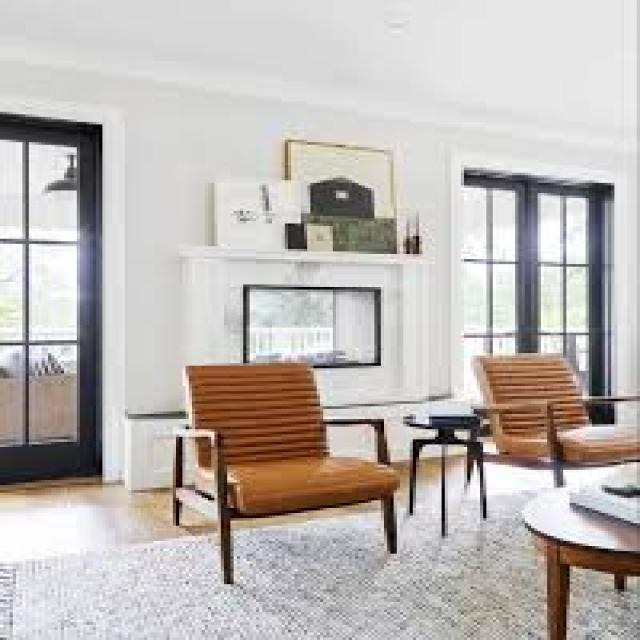Chair: (122, 356, 427, 563), (447, 346, 639, 489)
Table: (478, 473, 640, 637), (398, 398, 506, 526)
